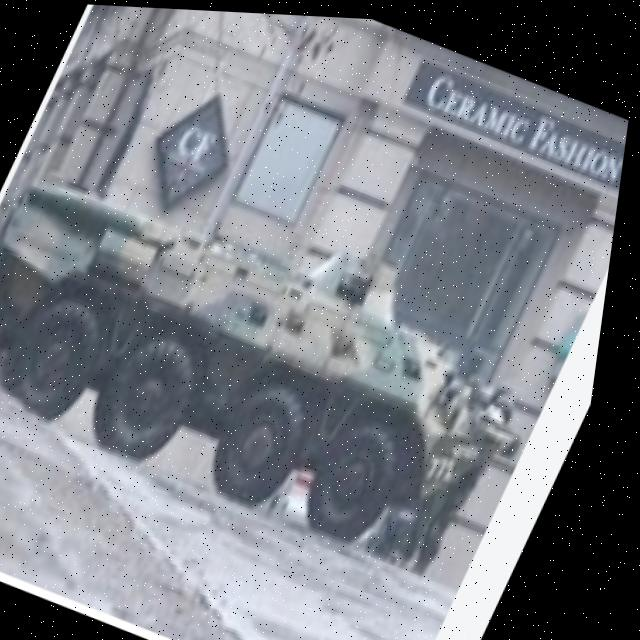MIL_APC: (0, 125, 584, 584)
